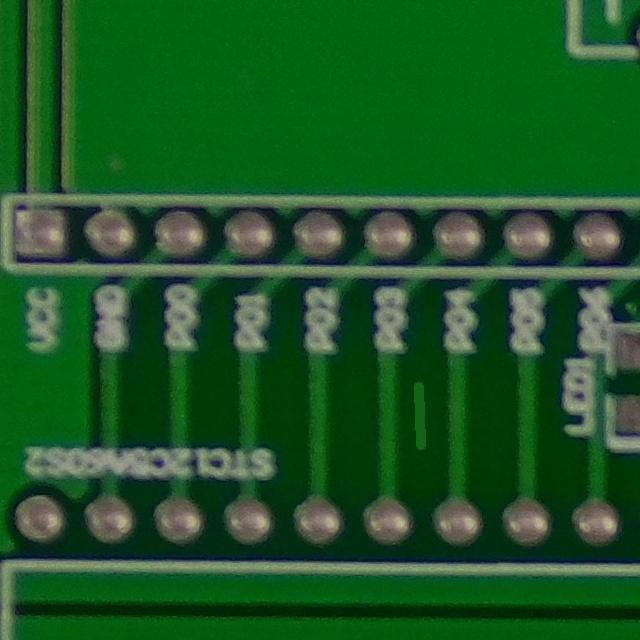spurious_copper: (392, 371, 451, 463)
